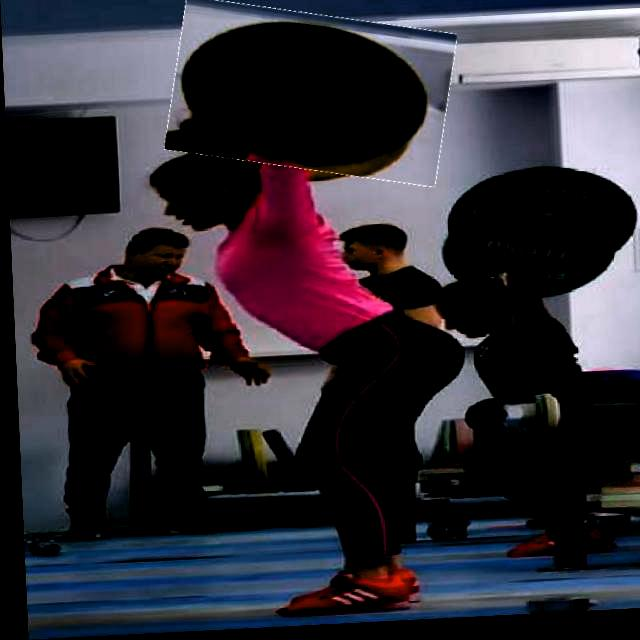barbell: (165, 1, 455, 191)
